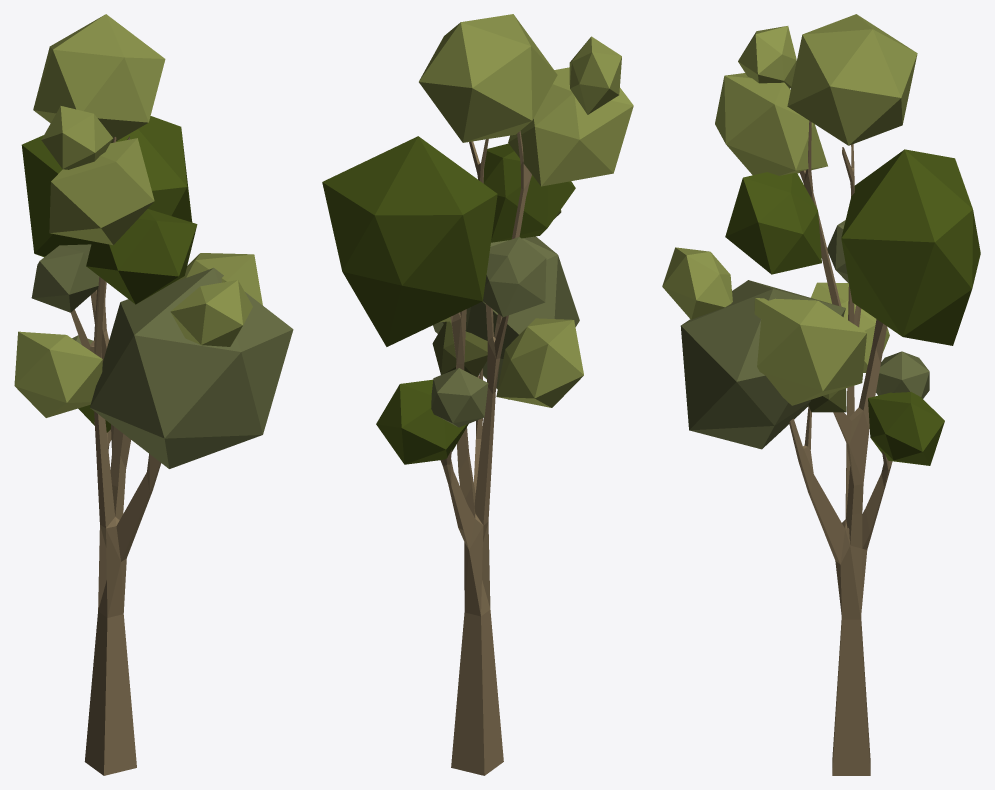
Rendered from tree-low-poly-1.glb.
3 renders of one model, left to right at view 1: azimuth 30°, elevation 25°; view 2: azimuth 150°, elevation 25°; view 3: azimuth 270°, elevation 25°, orthographic.
Parts seen in each view (by area): view 1: Icosphere.007; view 2: Icosphere.007; view 3: Icosphere.007.
Boxes of the visible parts, x1,y1,x2,y2 form: Icosphere.007: [14, 14, 293, 775]; Icosphere.007: [322, 14, 633, 775]; Icosphere.007: [662, 14, 980, 775].
Bounding box in the file's own units: 7.57 × 23.07 × 8.98.
